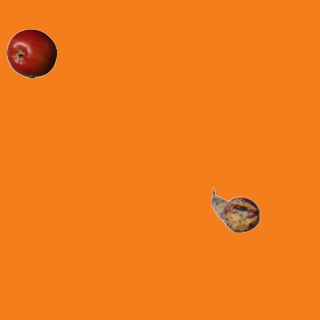Apple Braeburn: (6, 28, 56, 78)
Pear Abate: (210, 185, 260, 235)
